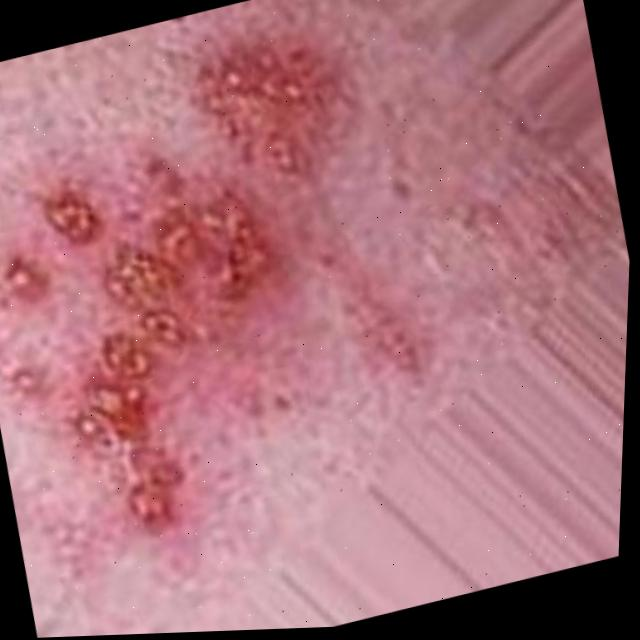Shingles: (0, 24, 438, 575)
